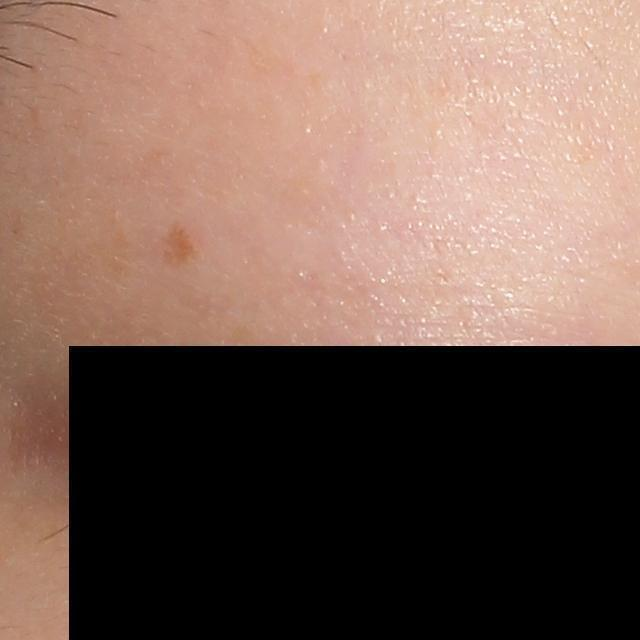melasma: (154, 208, 206, 274)
